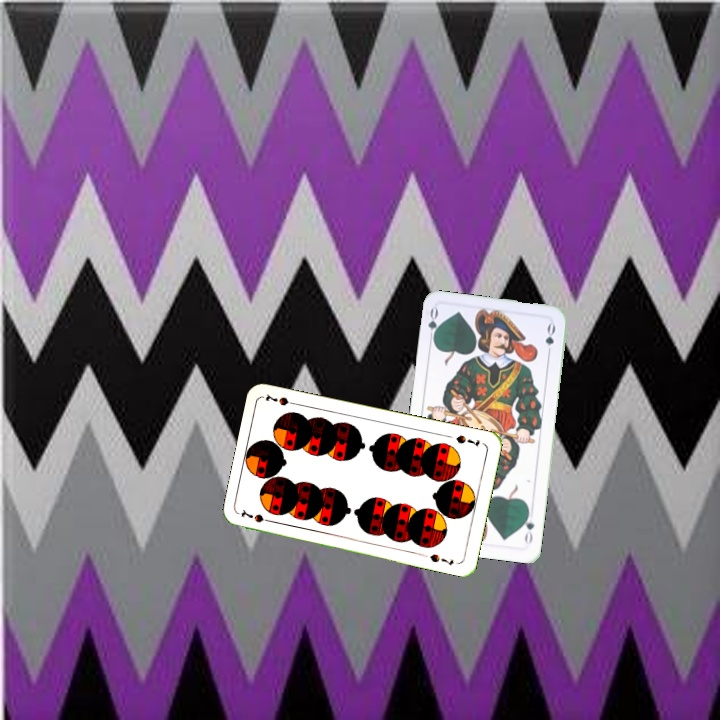GO: (424, 304, 443, 346), (520, 506, 537, 546)
S7: (237, 506, 277, 525), (452, 431, 482, 450)
